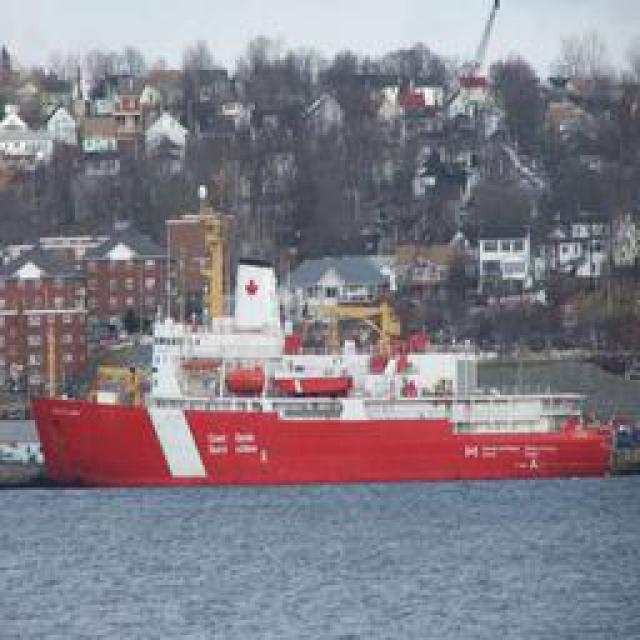Ship: (13, 312, 631, 495)
